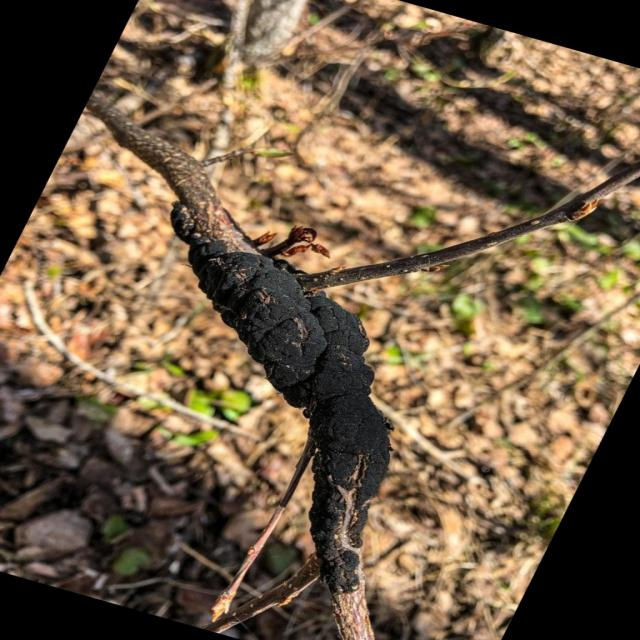Black_knot: (168, 200, 394, 597)
